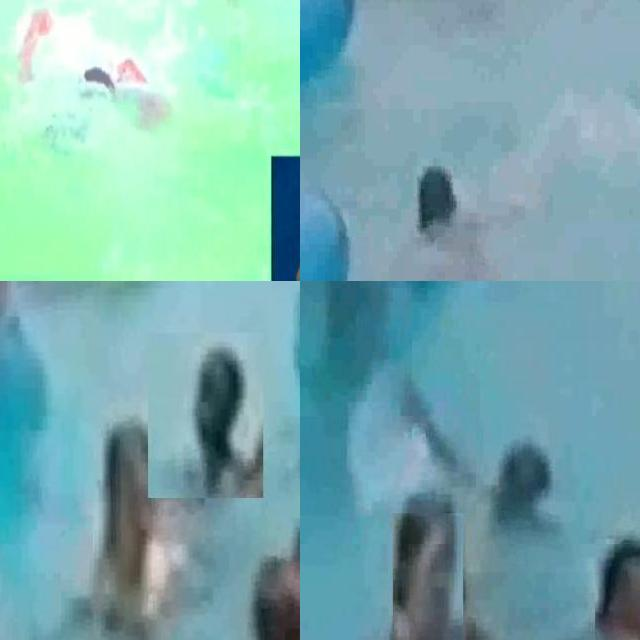drowning: (359, 115, 551, 281), (406, 353, 586, 508), (13, 0, 168, 146), (148, 333, 265, 499)
swimming: (72, 418, 184, 640), (394, 513, 466, 640), (234, 527, 300, 640), (595, 539, 640, 640), (0, 540, 33, 640)
